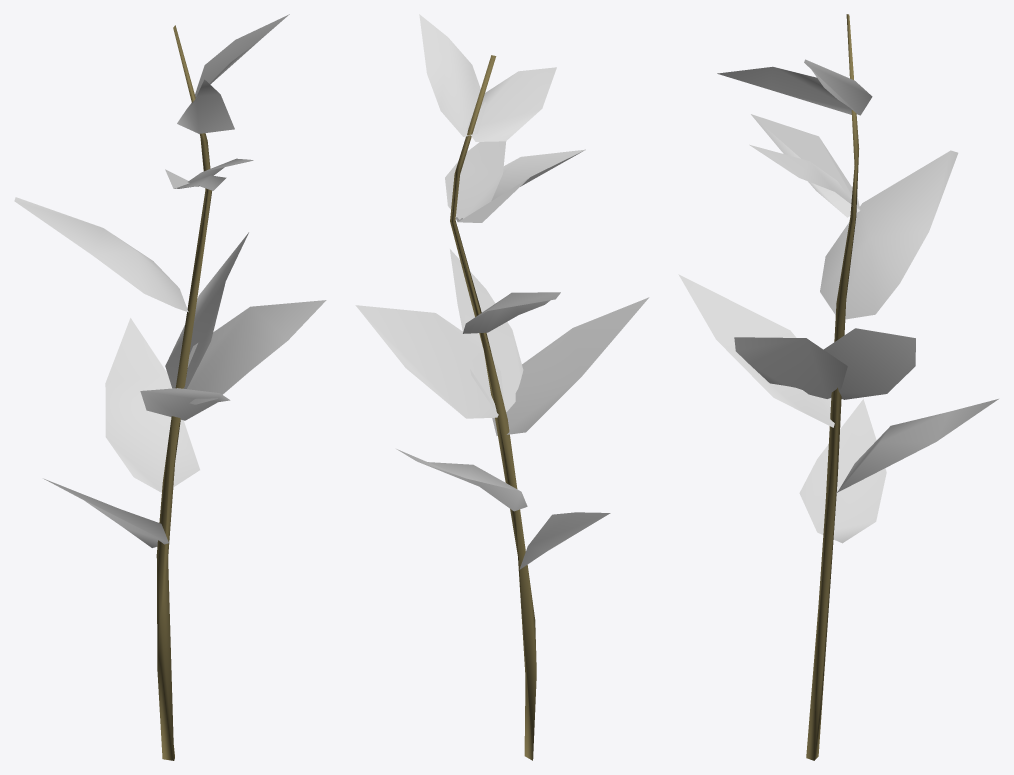
File: BushStem_02.fbx
3 views of the same model, side by side, from view 1: azimuth 30°, elevation 25°; view 2: azimuth 150°, elevation 25°; view 3: azimuth 270°, elevation 25° (orthographic). The views are drawn at different scales.
Parts seen in each view (by area): view 1: Simple_Leaf_02.003, Berry Stem 02.Decimated; view 2: Simple_Leaf_02.003, Berry Stem 02.Decimated; view 3: Simple_Leaf_02.003, Berry Stem 02.Decimated.
Part boxes in pixels (box(x1,y1,x2,y2)): Simple_Leaf_02.003: box(14, 14, 326, 547); Berry Stem 02.Decimated: box(156, 25, 211, 760); Simple_Leaf_02.003: box(355, 14, 649, 569); Berry Stem 02.Decimated: box(450, 55, 536, 760); Simple_Leaf_02.003: box(678, 59, 998, 543); Berry Stem 02.Decimated: box(806, 14, 859, 760).
Size of the model in its own units: 0.6642 by 1.96 by 0.7515.
